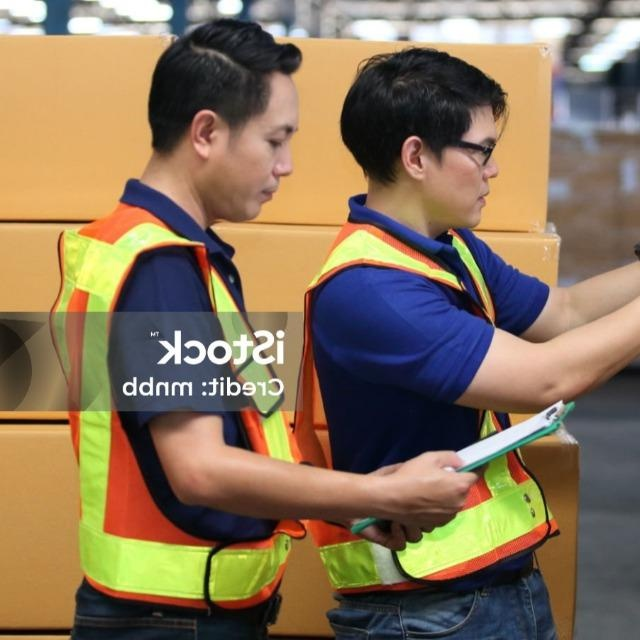Con_Chaleco: (299, 230, 531, 578)
Sin_Casco_Mascarrilla: (147, 21, 305, 223), (342, 51, 510, 231)
